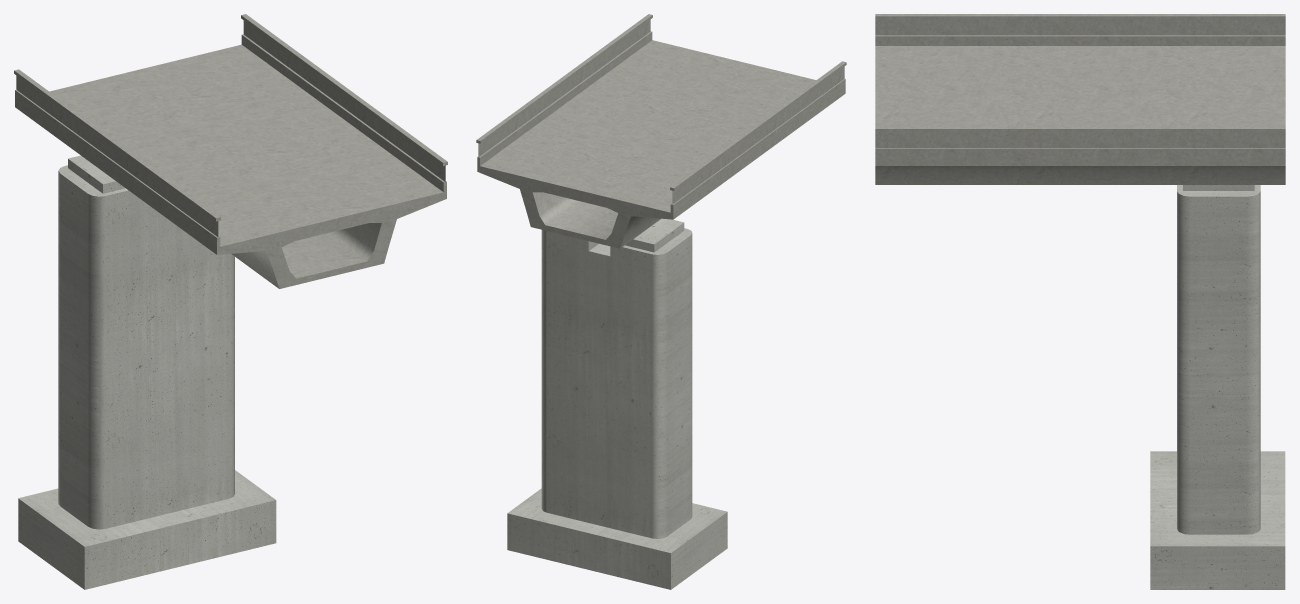
File: 高架桥（短）双线版本.fbx
3 renders of one model, left to right at view 1: azimuth 30°, elevation 25°; view 2: azimuth 150°, elevation 25°; view 3: azimuth 270°, elevation 25°, orthographic. The views are drawn at different scales.
Visible parts, largest first — view 1: QiaoDun2, QiaoMian2; view 2: QiaoDun2, QiaoMian2; view 3: QiaoMian2, QiaoDun2.
Boxes of the visible parts, bbox=[...] form: QiaoDun2: bbox=[18, 155, 276, 589]; QiaoMian2: bbox=[14, 14, 447, 288]; QiaoDun2: bbox=[507, 218, 727, 589]; QiaoMian2: bbox=[476, 14, 846, 248]; QiaoMian2: bbox=[875, 14, 1285, 184]; QiaoDun2: bbox=[1150, 185, 1285, 589].
Size of the model in its own units: 21.21 by 41.25 by 32.
